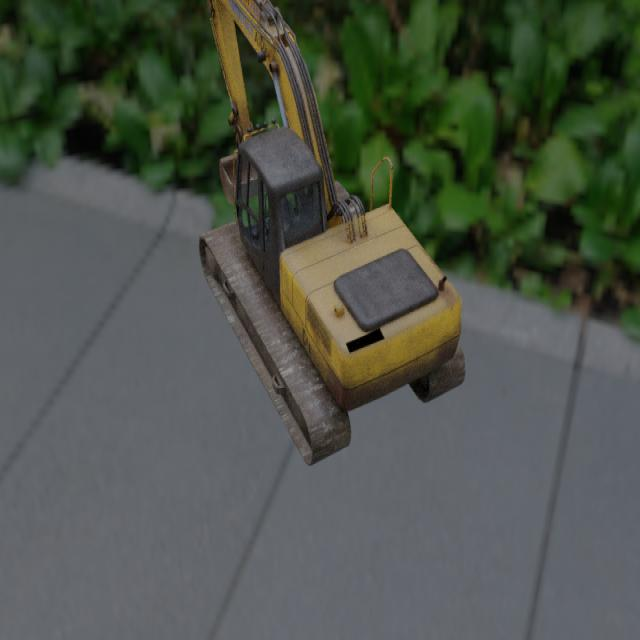excavator: (197, 0, 466, 467)
